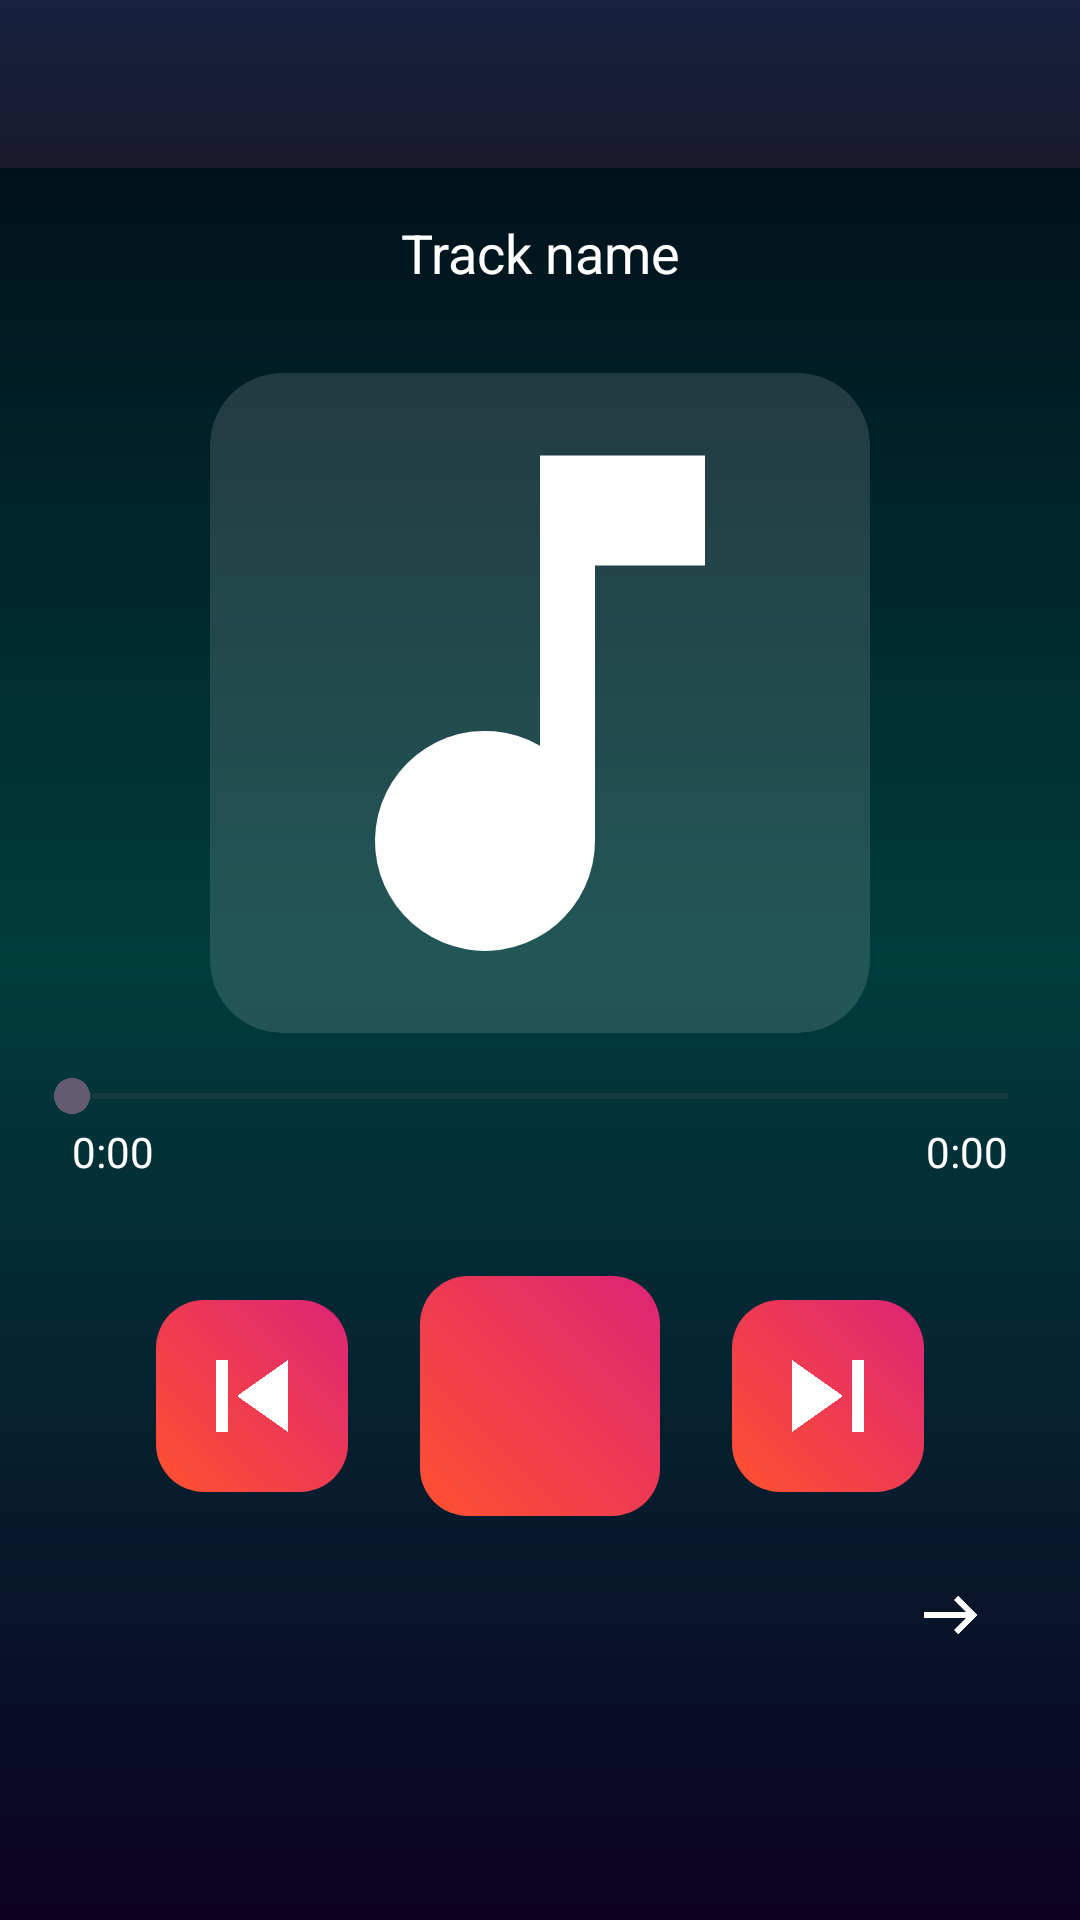

Named icons in this screenshot (1080x1920) and their bounding boxes, (x1, y1, x2, y2):
next: (732, 1300, 924, 1492)
prev: (156, 1300, 348, 1492)
